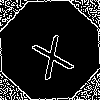X: (25, 25, 75, 81)
